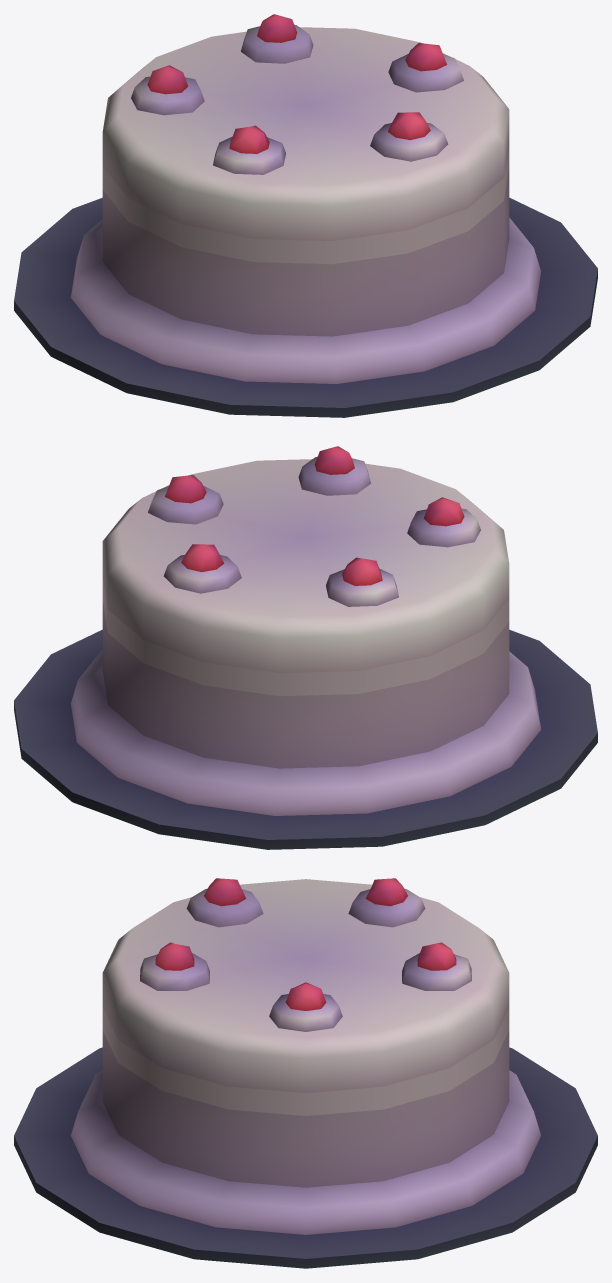
The model's file is consumables-sugar-cake_v1.glb.
3 views of the same model, one above another, from view 1: azimuth 30°, elevation 25°; view 2: azimuth 150°, elevation 25°; view 3: azimuth 270°, elevation 25° (orthographic).
Parts seen in each view (by area): view 1: Cake.001; view 2: Cake.001; view 3: Cake.001.
Boxes of the visible parts, left/top/right/bottom form: Cake.001: left=14, top=14, right=597, bottom=417; Cake.001: left=14, top=446, right=597, bottom=849; Cake.001: left=14, top=878, right=597, bottom=1268.
Size of the model in its own units: 0.4972 by 0.2062 by 0.4972.
